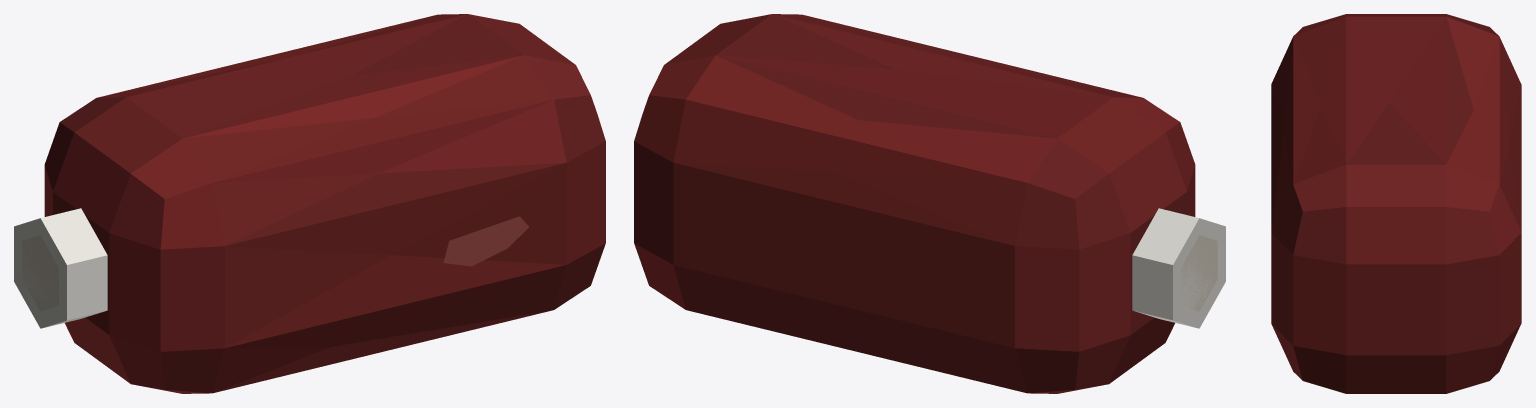
File: meat_raw_sobaka_idle.glb
3 views of the same model, side by side, from view 1: azimuth 30°, elevation 25°; view 2: azimuth 150°, elevation 25°; view 3: azimuth 270°, elevation 25° (orthographic). The views are drawn at different scales.
Parts seen in each view (by area): view 1: meat_raw_sobaka_idle; view 2: meat_raw_sobaka_idle; view 3: meat_raw_sobaka_idle.
Boxes of the visible parts, x1,y1,x2,y2 form: meat_raw_sobaka_idle: (14, 14, 605, 393); meat_raw_sobaka_idle: (634, 14, 1225, 393); meat_raw_sobaka_idle: (1271, 14, 1521, 393).
Bounding box in the file's own units: 0.13 × 0.06 × 0.064.
1 material, 1 textured.
